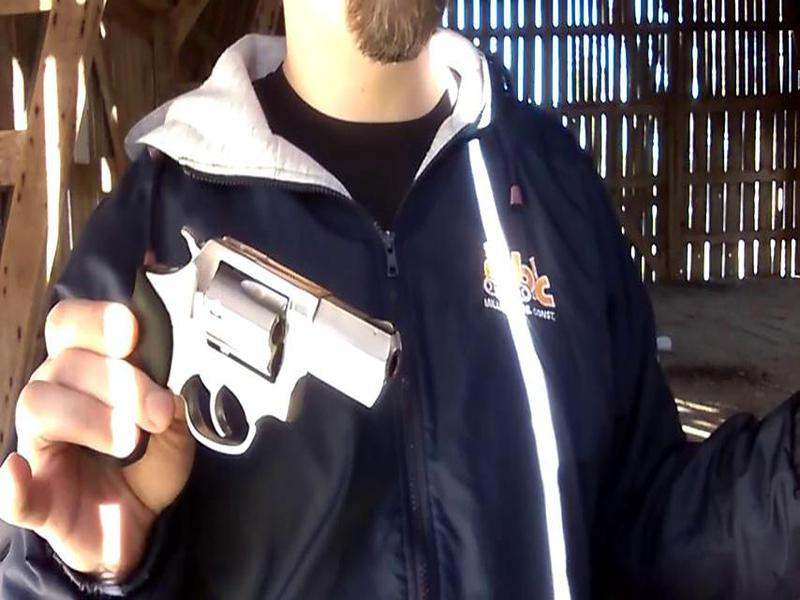Revolver: (76, 211, 409, 497)
